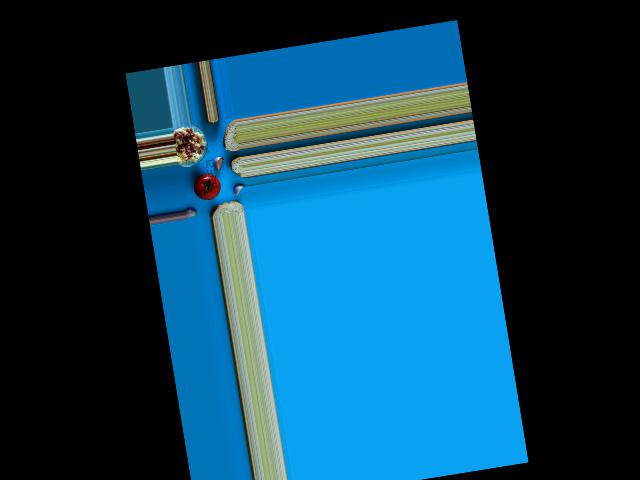tomato: (191, 173, 222, 202)
